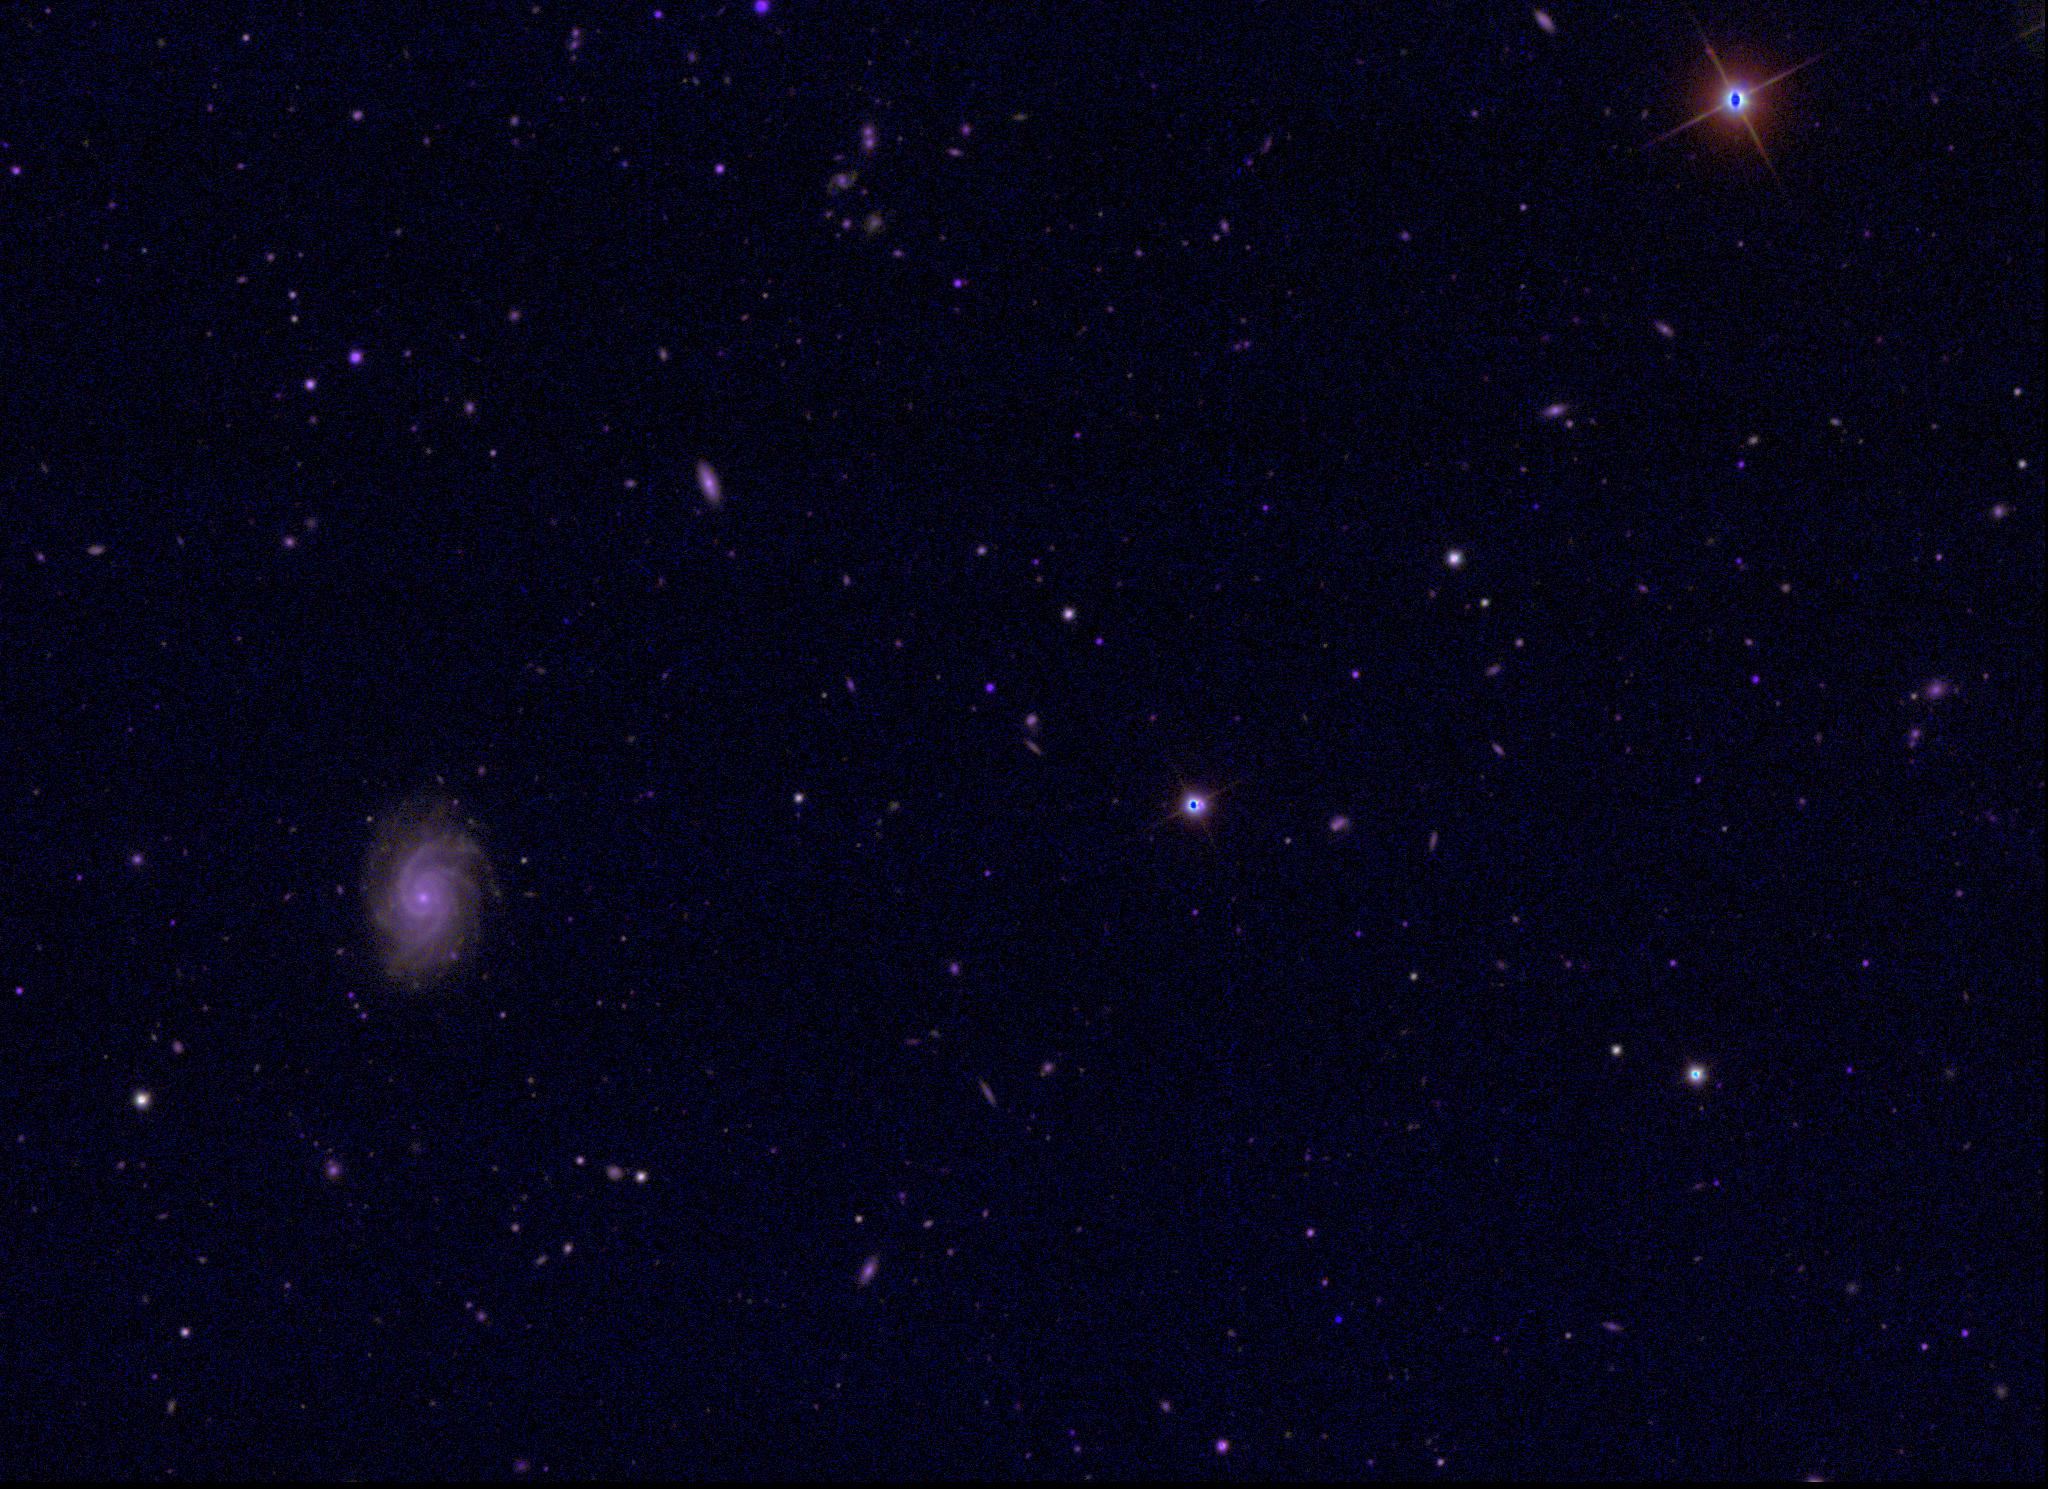L: (1331, 1308, 1345, 1322)
